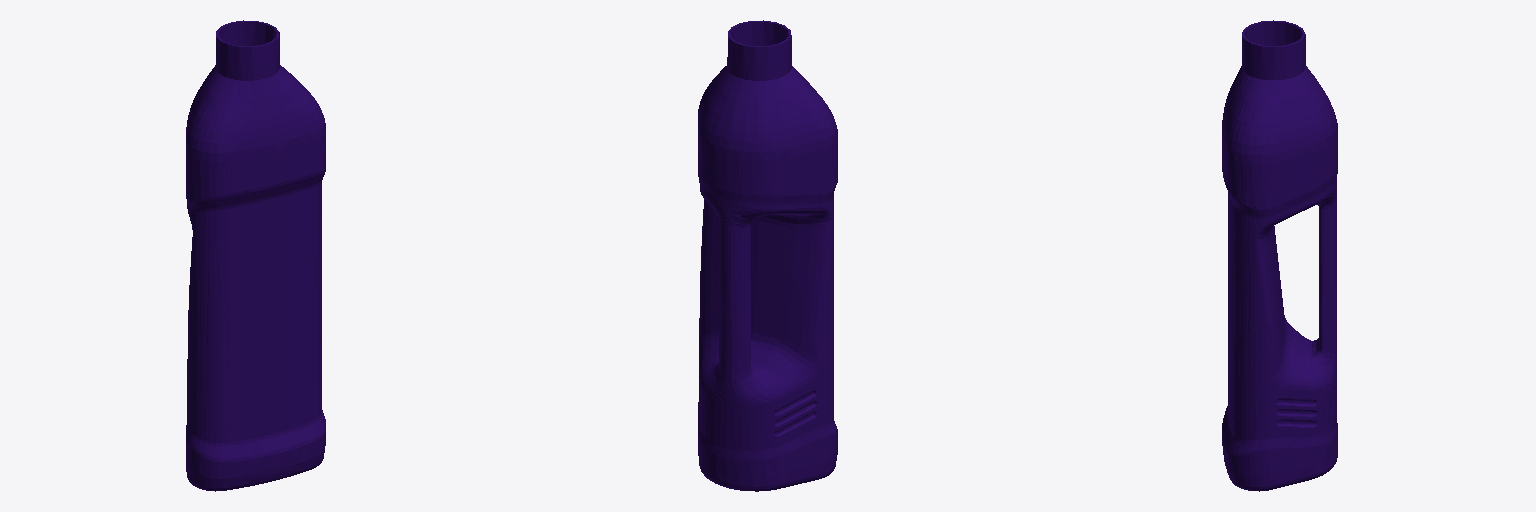
URDF robot description (Part3.SLDPRT):
<?xml version="1.0" encoding="utf-8"?>
<!-- This URDF was automatically created by SolidWorks to URDF Exporter! Originally created by [author] ([email redacted]) 
     Commit Version: 1.5.1-0-g916b5db  Build Version: 1.5.7152.31018
     For more information, please see http://wiki.ros.org/sw_urdf_exporter -->
<robot
  name="Part3.SLDPRT">
  <link
    name="Part3.SLDPRT">
    <inertial>
      <origin
        xyz="-6.2537E-05 -0.12784 0.024676"
        rpy="0 0 0" />
      <mass
        value="1.026721" />
      <inertia
        ixx="0.0001815"
        ixy="1.1003E-07"
        ixz="9.65590000000001E-09"
        iyy="2.4711E-05"
        iyz="4.0532000000001E-07"
        izz="0.00018575" />
    </inertial>
    <visual>
      <origin
        xyz="0 0 0"
        rpy="0 0 0" />
      <geometry>
        <mesh
          filename="models/meshes/bottle/Part3.SLDPRT.STL" scale="2 2 2" />
      </geometry>
      <material
        name="bottle">
        <color
          rgba="0.21961 0.09216 0.43333 0.7" />
        <texture
          filename="bottle/textures/" />
      </material>
    </visual>
    <collision>
      <origin
        xyz="0 0 0"
        rpy="0 0 0" />
      <geometry>
        <mesh
          filename="models/meshes/bottle/Part3.SLDPRT.STL" scale="2 2 2"  />
      </geometry>
    </collision>
  </link>
</robot>

--- Render facts (derived) ---
Views: 3 orthographic renders of the robot side by side, from view 1: azimuth 30°, elevation 25°; view 2: azimuth 150°, elevation 25°; view 3: azimuth 270°, elevation 25°.
Model Part3.SLDPRT with 1 links and 0 joints (none), rooted at Part3.SLDPRT, posed all joints at 0.
Links seen in each view (by area): view 1: Part3.SLDPRT; view 2: Part3.SLDPRT; view 3: Part3.SLDPRT.
Boxes of the visible links, x1,y1,x2,y2 form: Part3.SLDPRT: (186, 20, 325, 491); Part3.SLDPRT: (698, 20, 837, 491); Part3.SLDPRT: (1222, 20, 1337, 491).
Bounding box of the posed robot: 0.1658 × 0.128 × 0.52 m (x, y, z).
Meshes: 1 distinct files referenced, 1 mesh visuals loaded (1 binary STL).